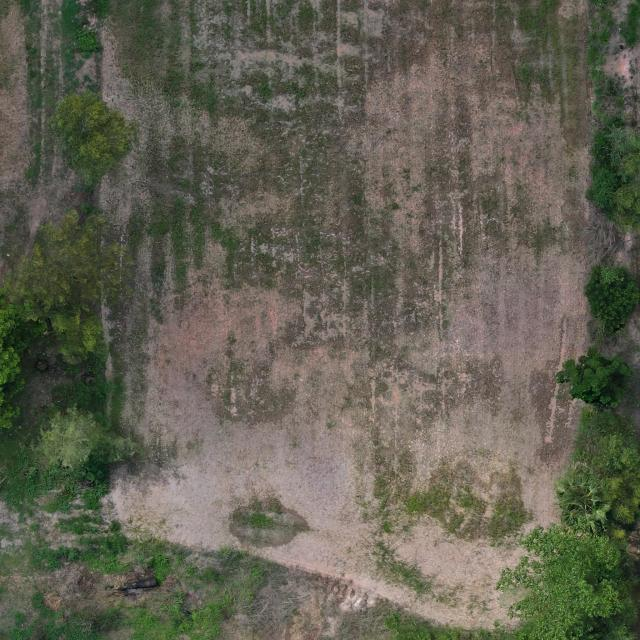Tree: (15, 206, 138, 367), (494, 520, 640, 640), (51, 82, 138, 193), (35, 400, 138, 480), (552, 346, 634, 414), (583, 263, 640, 339), (554, 462, 613, 535)
